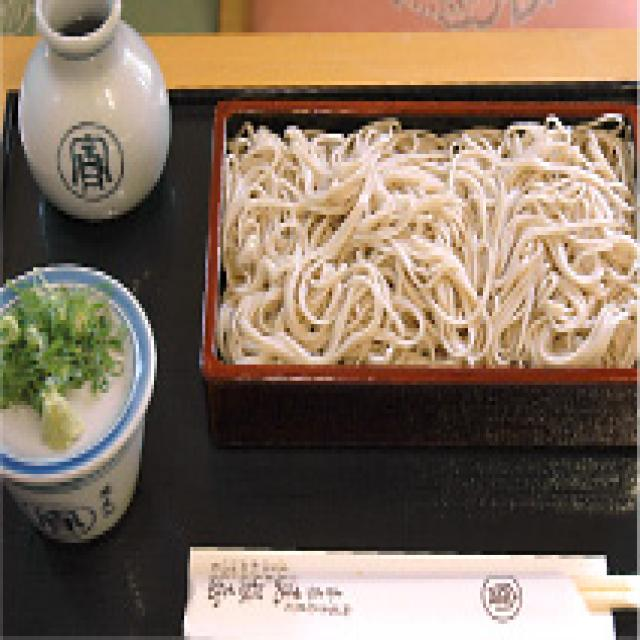面条主食: (190, 69, 634, 445)
